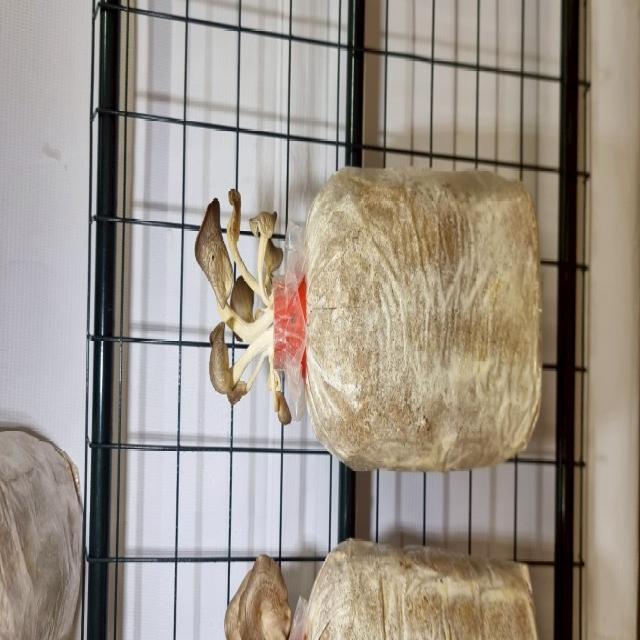abnormal: (202, 326, 273, 393), (226, 191, 262, 313), (194, 215, 237, 315), (254, 209, 294, 298), (267, 357, 290, 441)
